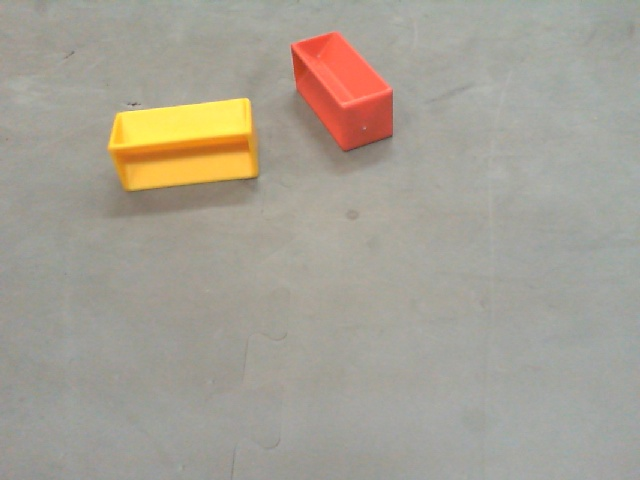RedSample: (288, 29, 396, 153)
YellowSample: (108, 91, 261, 195)
